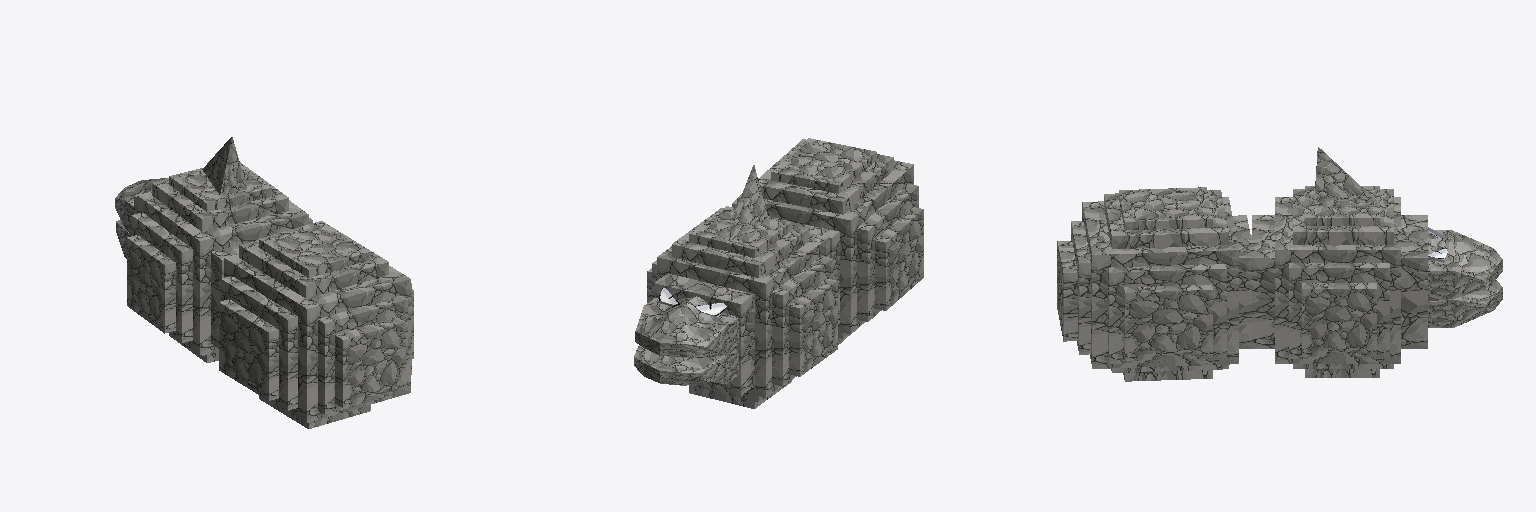
The picture shows the model from 3 angles: view 1: azimuth 30°, elevation 25°; view 2: azimuth 150°, elevation 25°; view 3: azimuth 270°, elevation 25°; orthographic projection.
Visible parts, largest first — view 1: Onix; view 2: Onix; view 3: Onix.
Boxes of the visible parts, x1=… form: Onix: x1=115, y1=137, x2=413, y2=428; Onix: x1=634, y1=138, x2=923, y2=408; Onix: x1=1057, y1=147, x2=1502, y2=381.
Size of the model in its own units: 5.82 by 7.42 by 13.92.
Materials: 2 (2 with a texture image).